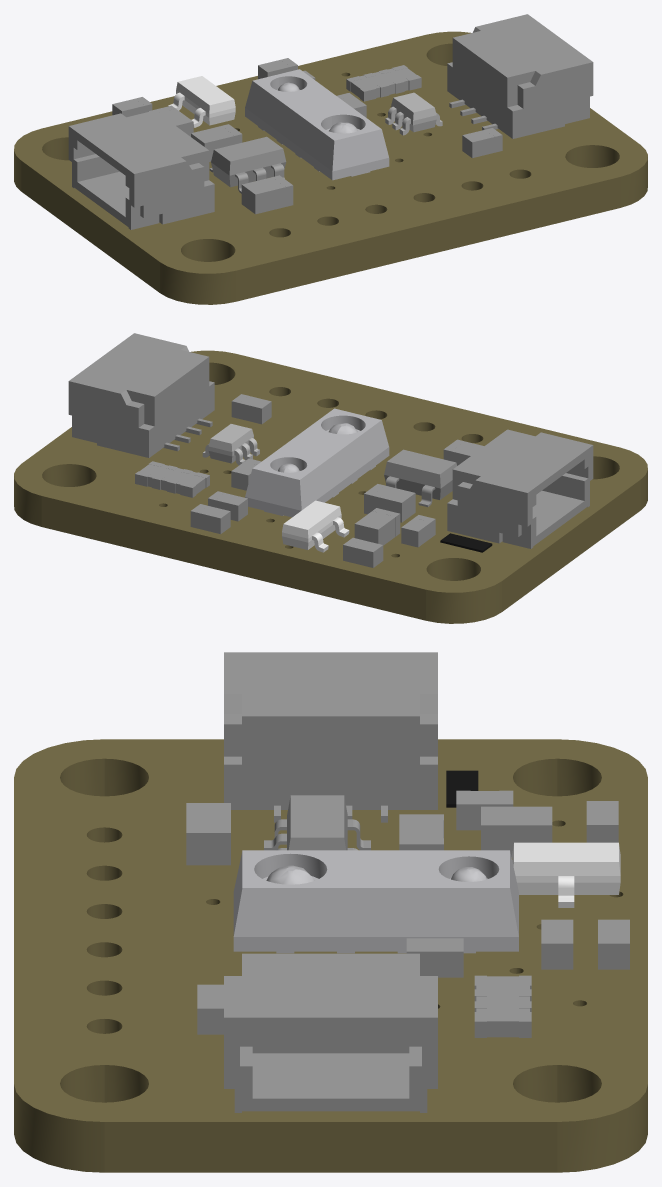
Rendered from ada-6064.glb.
3 renders of one model, top to bottom at view 1: azimuth 30°, elevation 25°; view 2: azimuth 150°, elevation 25°; view 3: azimuth 270°, elevation 25°, orthographic. The views are drawn at different scales.
Visible parts, largest first — view 1: 0.16666666666666666_0.16666666666666666_0.08333333333333333_, 0.3333333333333333_0.3333333333333333_0.3333333333333333_0, 0.5833333333333334_0.5833333333333334_0.5833333333333334_0.8, 0.9166666666666666_0.9166666666666666_0.9166666666666666_0.8, 0.5_0.5_0.5_0.85; view 2: 0.16666666666666666_0.16666666666666666_0.08333333333333333_, 0.3333333333333333_0.3333333333333333_0.3333333333333333_0, 0.5833333333333334_0.5833333333333334_0.5833333333333334_0.8, 0.9166666666666666_0.9166666666666666_0.9166666666666666_0.8, 0.5_0.5_0.5_0.85, 0_0_0_0; view 3: 0.16666666666666666_0.16666666666666666_0.08333333333333333_, 0.3333333333333333_0.3333333333333333_0.3333333333333333_0, 0.5833333333333334_0.5833333333333334_0.5833333333333334_0.8, 0.9166666666666666_0.9166666666666666_0.9166666666666666_0.8, 0_0_0_0.
Part boxes in pixels (left/top/right/bottom): 0.16666666666666666_0.16666666666666666_0.08333333333333333_: left=14, top=31, right=647, bottom=304; 0.3333333333333333_0.3333333333333333_0.3333333333333333_0: left=68, top=14, right=593, bottom=229; 0.5833333333333334_0.5833333333333334_0.5833333333333334_0.8: left=245, top=69, right=389, bottom=180; 0.9166666666666666_0.9166666666666666_0.9166666666666666_0.8: left=168, top=76, right=235, bottom=127; 0.5_0.5_0.5_0.85: left=385, top=92, right=442, bottom=135; 0.16666666666666666_0.16666666666666666_0.08333333333333333_: left=14, top=350, right=647, bottom=623; 0.3333333333333333_0.3333333333333333_0.3333333333333333_0: left=68, top=333, right=593, bottom=567; 0.5833333333333334_0.5833333333333334_0.5833333333333334_0.8: left=245, top=408, right=389, bottom=517; 0.9166666666666666_0.9166666666666666_0.9166666666666666_0.8: left=282, top=500, right=349, bottom=552; 0.5_0.5_0.5_0.85: left=202, top=424, right=259, bottom=465; 0_0_0_0: left=440, top=533, right=492, bottom=552; 0.16666666666666666_0.16666666666666666_0.08333333333333333_: left=14, top=739, right=647, bottom=1172; 0.3333333333333333_0.3333333333333333_0.3333333333333333_0: left=186, top=652, right=629, bottom=1112; 0.5833333333333334_0.5833333333333334_0.5833333333333334_0.8: left=233, top=850, right=518, bottom=953; 0.9166666666666666_0.9166666666666666_0.9166666666666666_0.8: left=512, top=842, right=620, bottom=907; 0_0_0_0: left=446, top=770, right=478, bottom=807.
Bounding box in the file's own units: 2.54 × 0.453 × 1.78.
